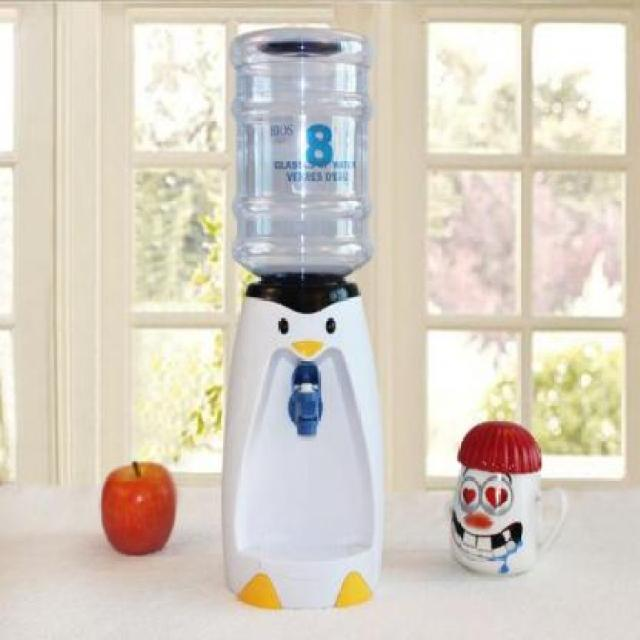cooler: (220, 23, 389, 613)
